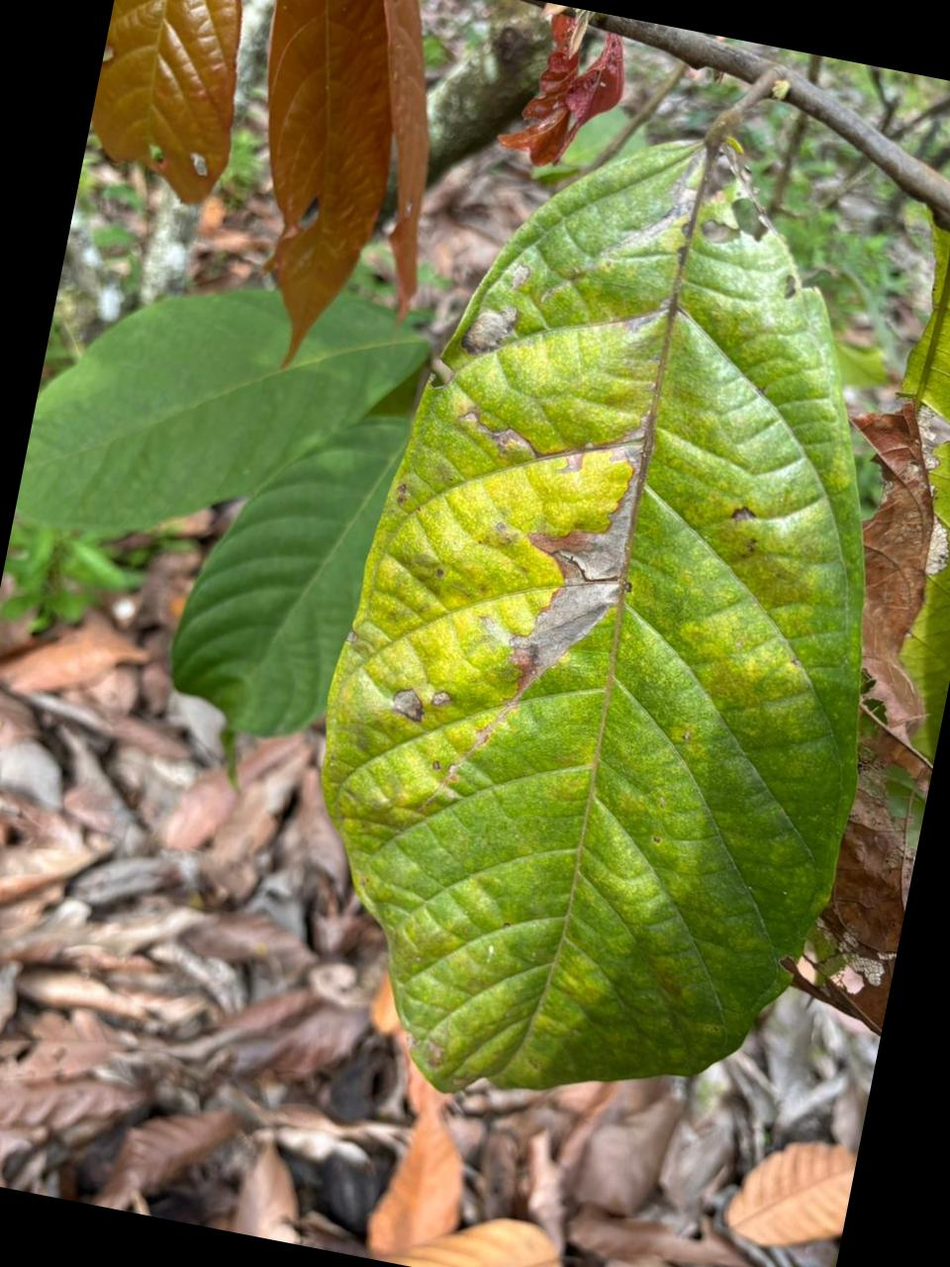Fosforo: (325, 139, 864, 1089)
